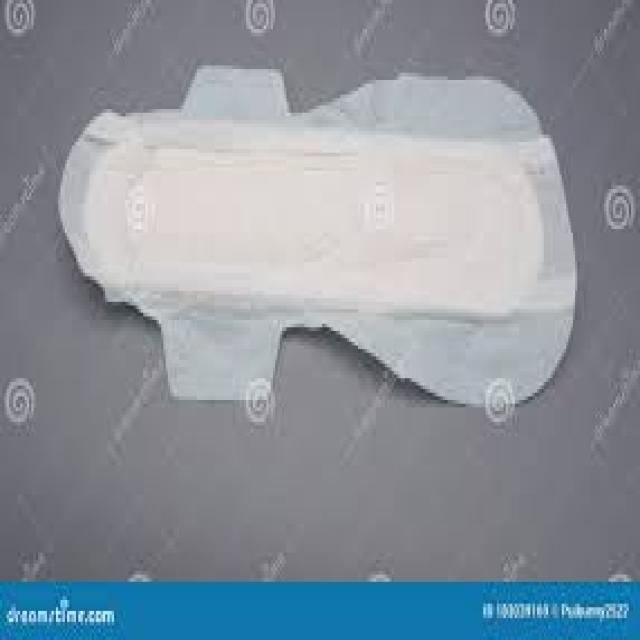napkin: (60, 65, 575, 419)
